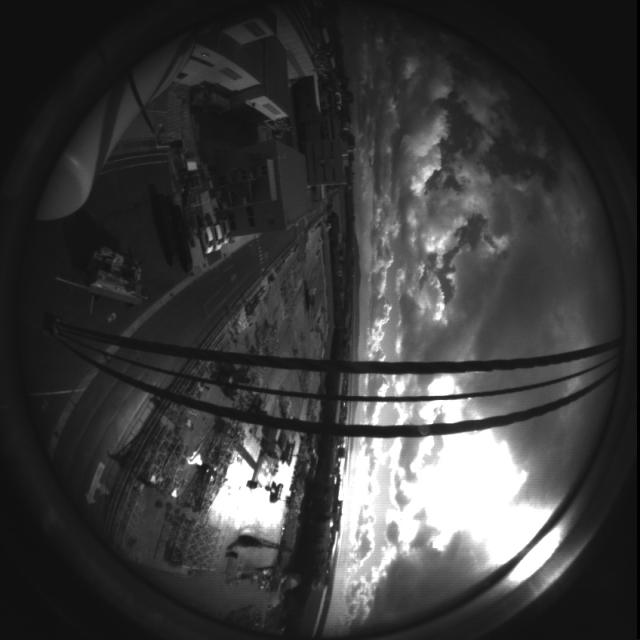rope: (14, 292, 636, 444)
sky: (314, 2, 617, 636)
